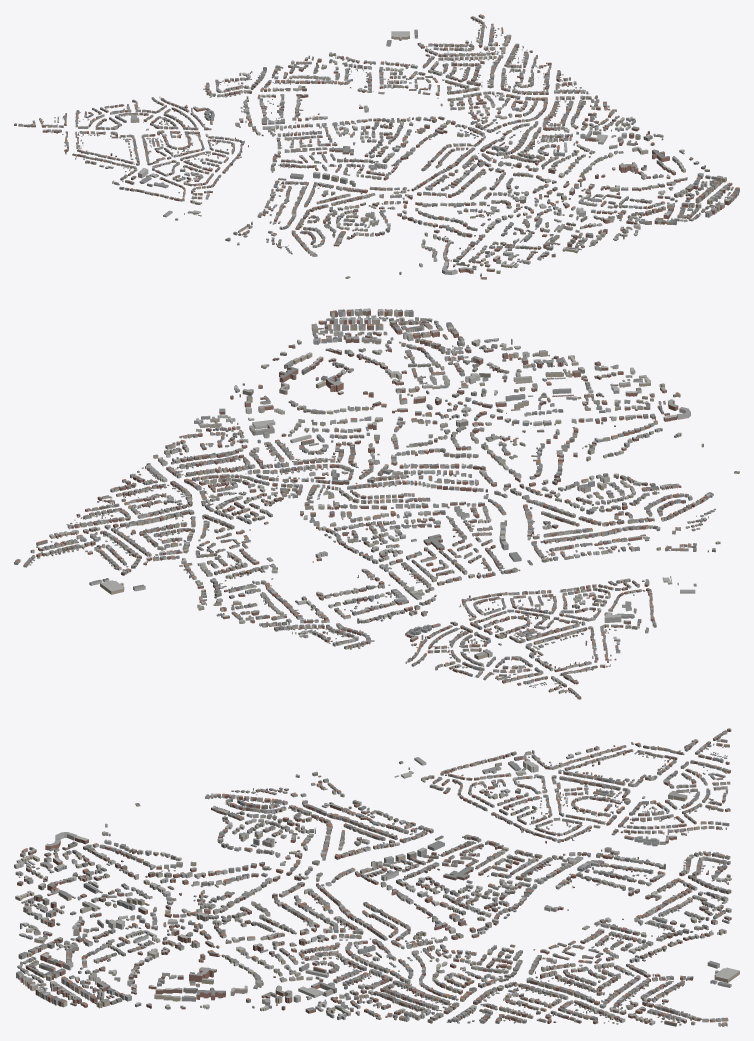
File: buildings_b0_0_3.glb
The picture shows the model from 3 angles, top to bottom: view 1: azimuth 30°, elevation 25°; view 2: azimuth 150°, elevation 25°; view 3: azimuth 270°, elevation 25°; orthographic projection. The views are drawn at different scales.
Visible parts, largest first — view 1: t03_14_buildings_b0, t03_12_buildings_b0, t02_13_buildings_b0, t03_13_buildings_b0, t03_15_buildings_b0, t02_12_buildings_b0, t01_13_buildings_b0, t01_15_buildings_b0, t02_14_buildings_b0, t01_14_buildings_b0, t02_15_buildings_b0, t00_15_buildings_b0 (+3 smaller); view 2: t03_14_buildings_b0, t03_12_buildings_b0, t03_15_buildings_b0, t03_13_buildings_b0, t02_12_buildings_b0, t02_13_buildings_b0, t01_13_buildings_b0, t02_14_buildings_b0, t01_15_buildings_b0, t01_14_buildings_b0, t02_15_buildings_b0, t00_15_buildings_b0 (+3 smaller); view 3: t03_14_buildings_b0, t03_12_buildings_b0, t03_15_buildings_b0, t03_13_buildings_b0, t02_12_buildings_b0, t01_15_buildings_b0, t02_13_buildings_b0, t01_13_buildings_b0, t02_14_buildings_b0, t01_14_buildings_b0, t02_15_buildings_b0, t00_15_buildings_b0 (+3 smaller).
Part boxes in pixels (<box>): t03_14_buildings_b0: <box>435,62,616,146</box>; t03_12_buildings_b0: <box>574,156,739,236</box>; t02_13_buildings_b0: <box>380,145,557,228</box>; t03_13_buildings_b0: <box>504,112,684,187</box>; t03_15_buildings_b0: <box>385,14,547,91</box>; t02_12_buildings_b0: <box>450,187,628,265</box>; t01_13_buildings_b0: <box>262,175,443,247</box>; t01_15_buildings_b0: <box>121,77,308,154</box>; t02_14_buildings_b0: <box>308,93,493,175</box>; t01_14_buildings_b0: <box>190,130,377,208</box>; t02_15_buildings_b0: <box>239,52,427,120</box>; t00_15_buildings_b0: <box>14,104,185,169</box>; t03_14_buildings_b0: <box>97,434,325,534</box>; t03_12_buildings_b0: <box>272,308,498,404</box>; t03_15_buildings_b0: <box>14,501,237,594</box>; t03_13_buildings_b0: <box>192,364,407,475</box>; t02_12_buildings_b0: <box>413,338,642,448</box>; t02_13_buildings_b0: <box>331,411,562,509</box>; t01_13_buildings_b0: <box>482,453,692,551</box>; t02_14_buildings_b0: <box>243,479,476,575</box>; t01_15_buildings_b0: <box>312,573,535,671</box>; t01_14_buildings_b0: <box>402,510,612,612</box>; t02_15_buildings_b0: <box>192,536,379,638</box>; t00_15_buildings_b0: <box>455,613,620,699</box>; t03_14_buildings_b0: <box>370,944,553,1023</box>; t03_12_buildings_b0: <box>16,932,197,1009</box>; t03_15_buildings_b0: <box>549,946,739,1026</box>; t03_13_buildings_b0: <box>189,940,375,1019</box>; t02_12_buildings_b0: <box>14,860,198,943</box>; t01_15_buildings_b0: <box>549,798,730,879</box>; t02_13_buildings_b0: <box>193,871,375,954</box>; t01_13_buildings_b0: <box>201,798,374,881</box>; t02_14_buildings_b0: <box>371,866,552,950</box>; t01_14_buildings_b0: <box>369,801,552,876</box>; t02_15_buildings_b0: <box>544,874,731,949</box>; t00_15_buildings_b0: <box>549,728,731,802</box>.
Size of the model in its own units: 1948 by 96.14 by 2040.
